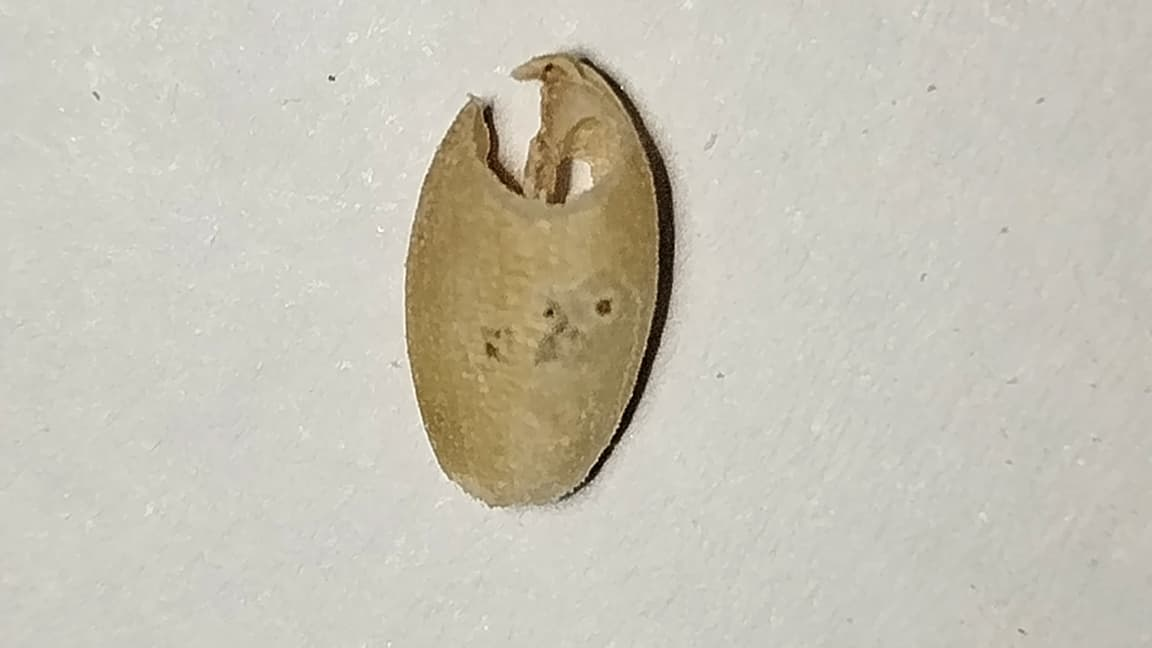damage: (405, 54, 659, 506)
insectdamage: (472, 61, 620, 206), (482, 277, 623, 376)
